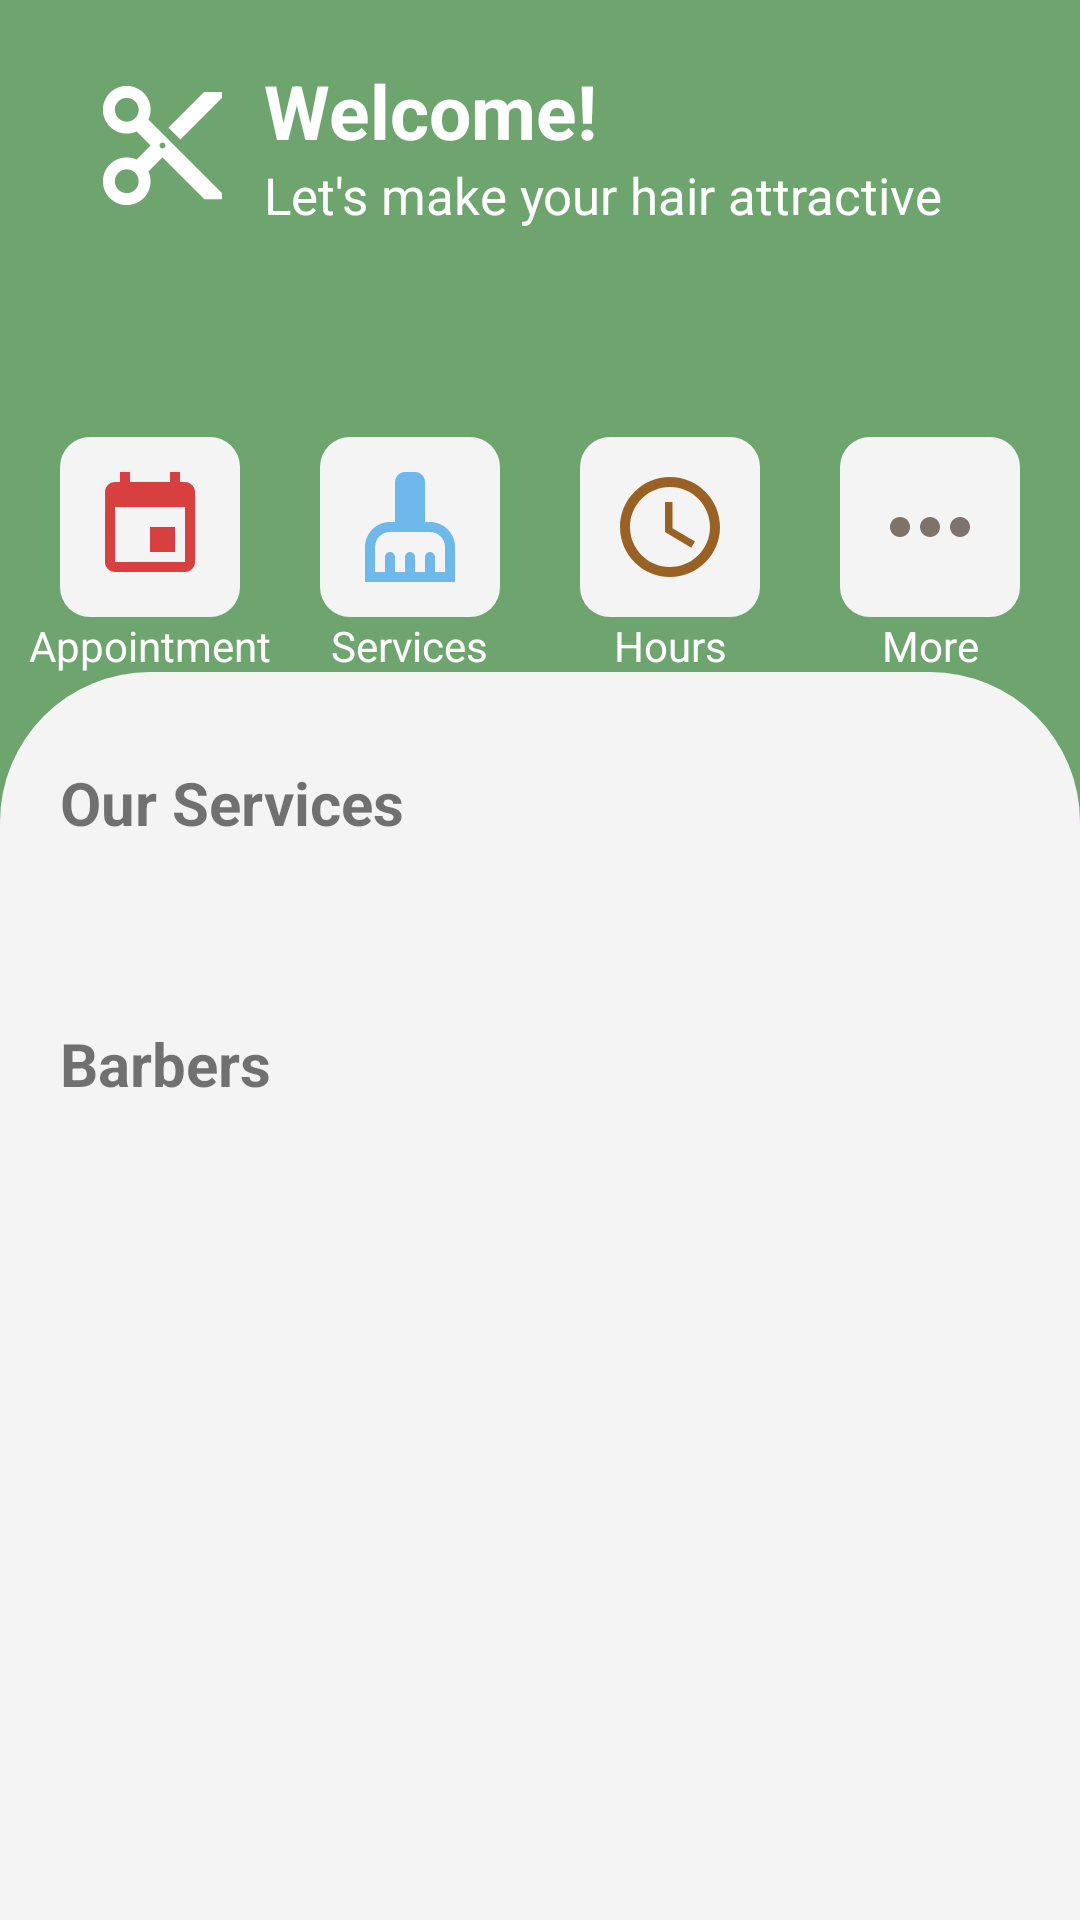

Where icons sit on this 1080×1920 app screen, as [x1=x1, y1=y1, x2=x2, y2=y2]:
access time: [x1=580, y1=437, x2=760, y2=617]
content cut: [x1=103, y1=86, x2=222, y2=205]
insert invitation: [x1=60, y1=437, x2=240, y2=617]
